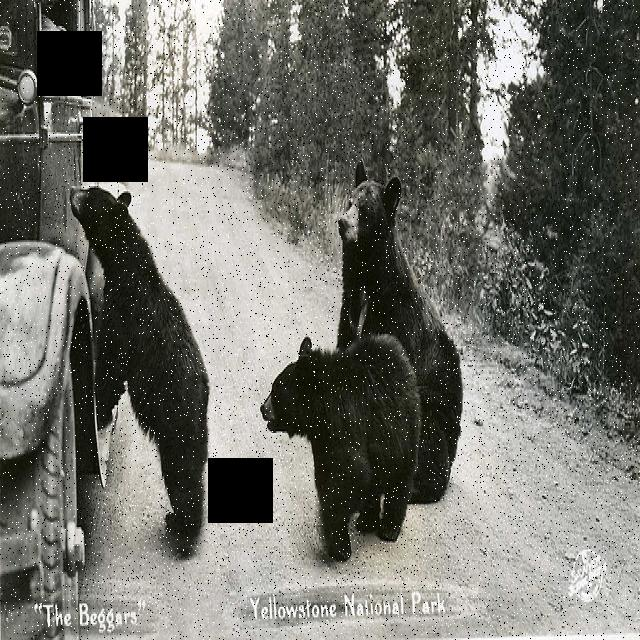Bear: (66, 172, 218, 554), (324, 138, 469, 497), (258, 328, 417, 562)
